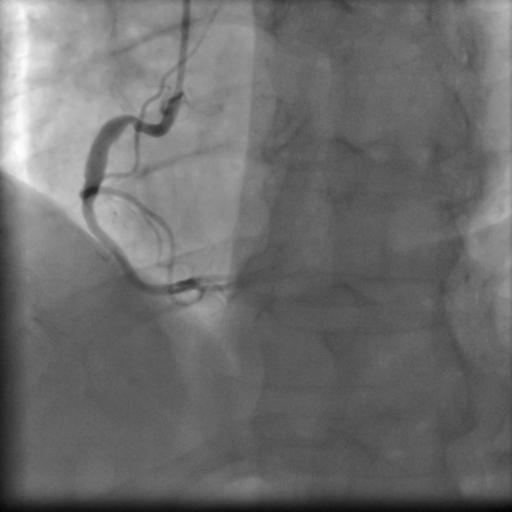Stenosis: (78, 200, 97, 222)
